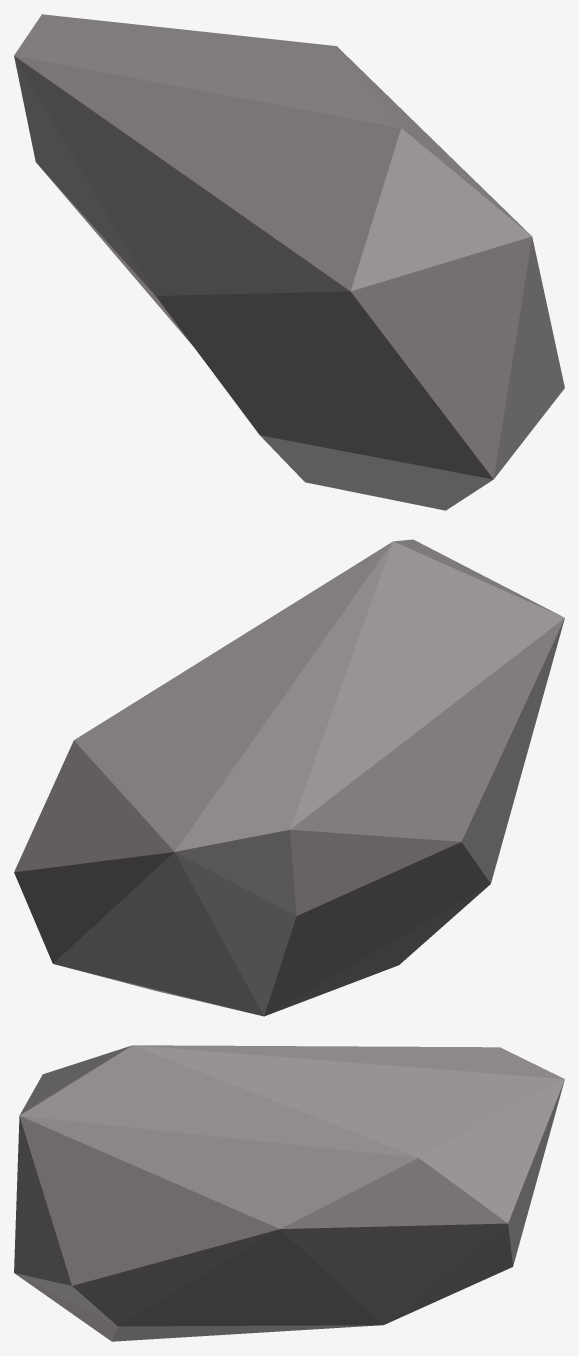
The model's file is SM_Rock_M_03.fbx.
The picture shows the model from 3 angles, top to bottom: view 1: azimuth 30°, elevation 25°; view 2: azimuth 150°, elevation 25°; view 3: azimuth 270°, elevation 25°; orthographic projection. The views are drawn at different scales.
Parts seen in each view (by area): view 1: SM_Rock_M_03; view 2: SM_Rock_M_03; view 3: SM_Rock_M_03.
Boxes of the visible parts, box(x1,y1,x2,y2) form: SM_Rock_M_03: box(14, 14, 564, 510); SM_Rock_M_03: box(14, 539, 564, 1016); SM_Rock_M_03: box(14, 1045, 564, 1341).
Size of the model in its own units: 106 by 121 by 211.
